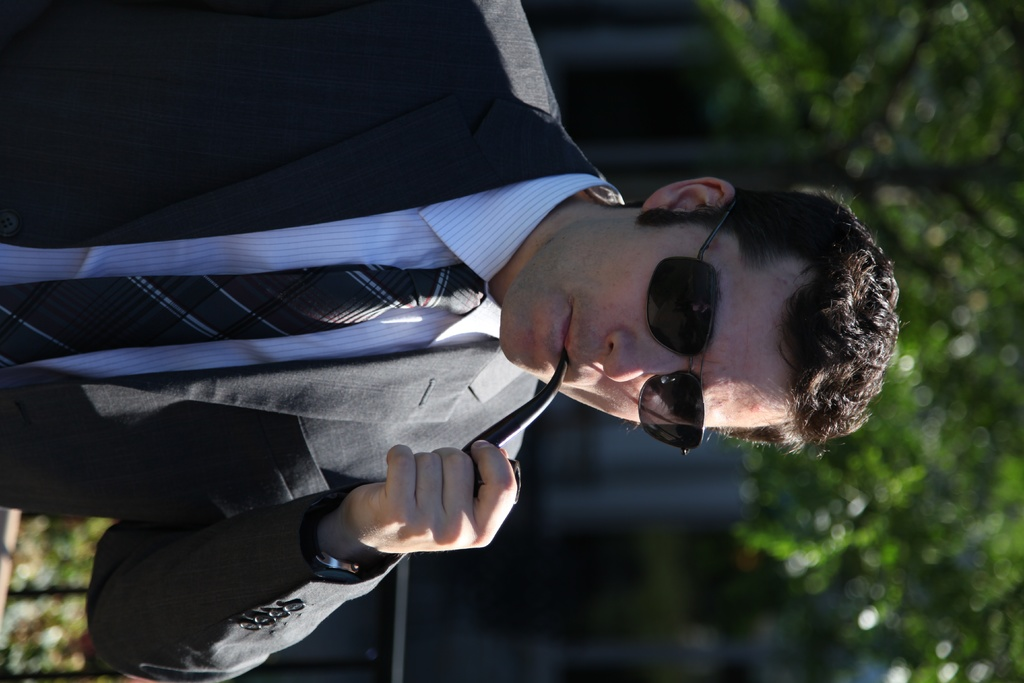Human_hand: (330, 454, 527, 572)
